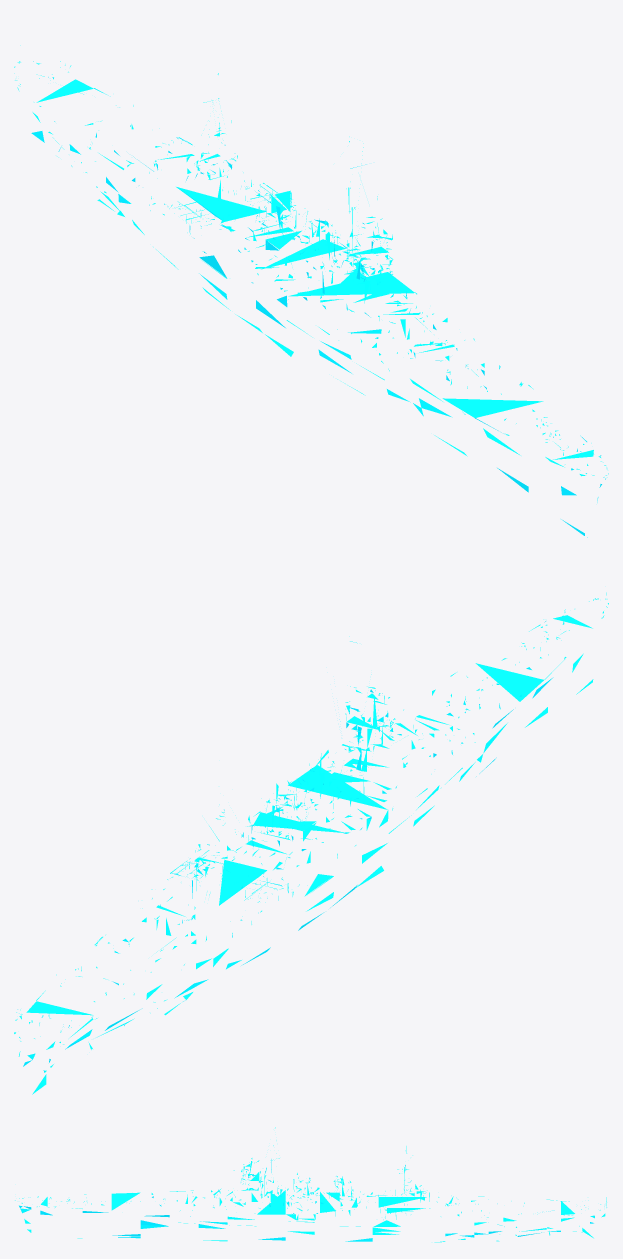
File: Amalfi.glb
3 renders of one model, top to bottom at view 1: azimuth 30°, elevation 25°; view 2: azimuth 150°, elevation 25°; view 3: azimuth 270°, elevation 25°, orthographic. The views are drawn at different scales.
Bounding box in the file's own units: 1.59 × 3.15 × 14.62.
